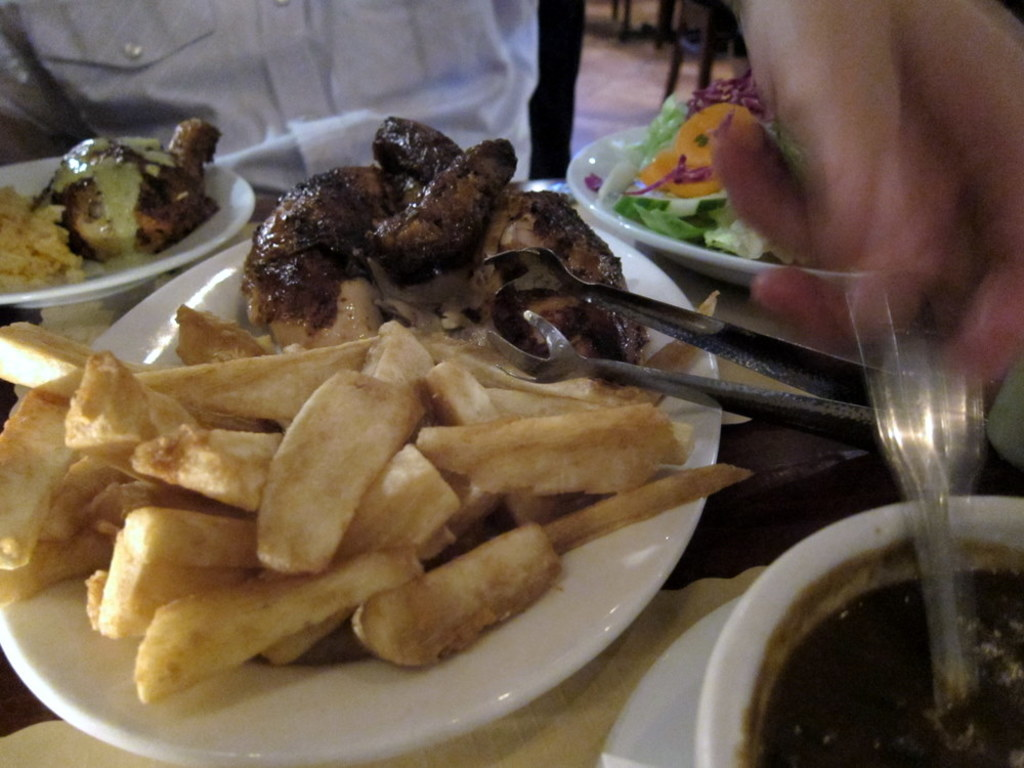French fries: (0, 264, 761, 712)
